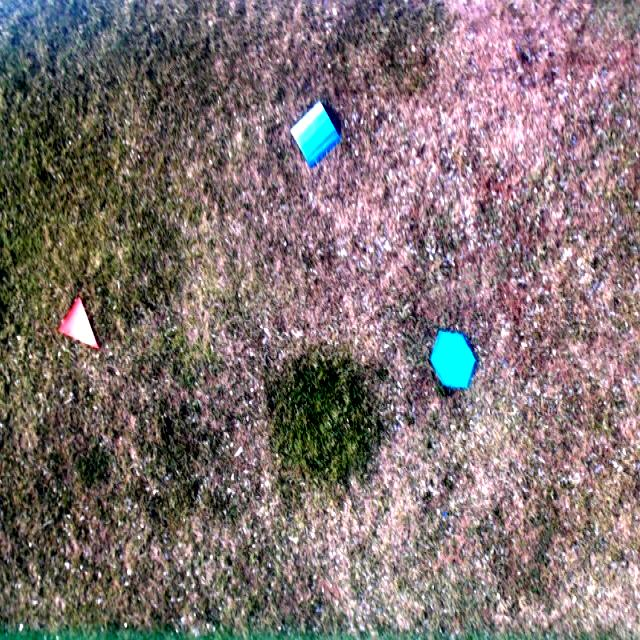blue_hexagon: (428, 329, 478, 388)
blue_square: (287, 100, 342, 170)
red_triangle: (58, 299, 103, 357)
